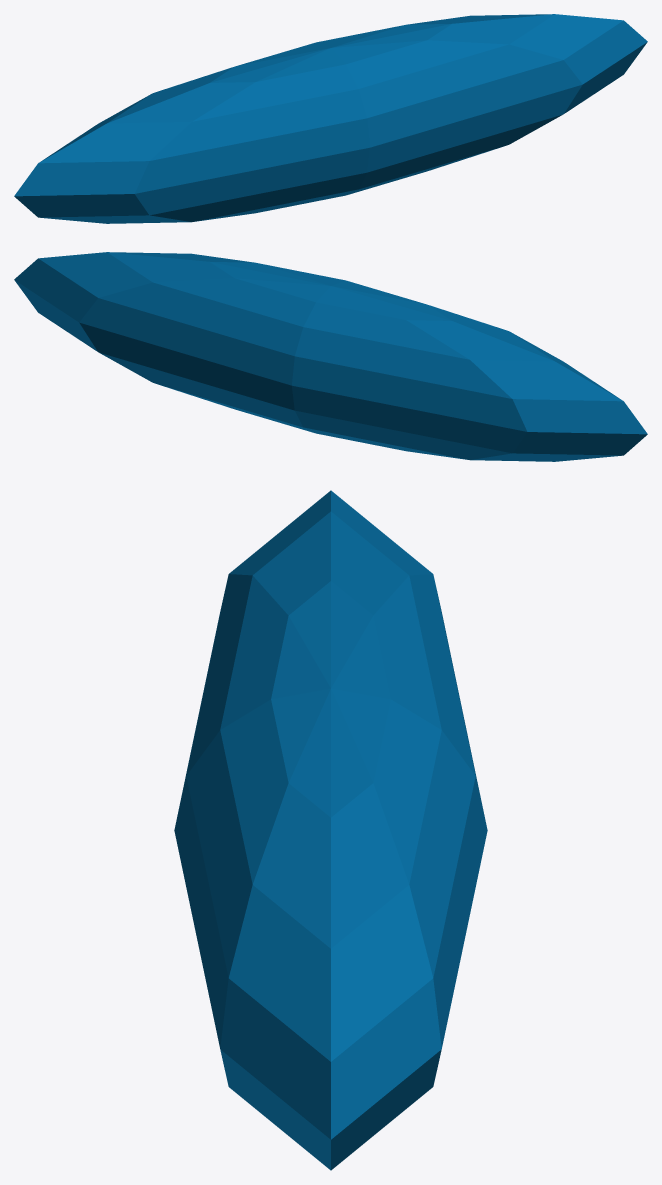
File: tir.obj
3 renders of one model, top to bottom at view 1: azimuth 30°, elevation 25°; view 2: azimuth 150°, elevation 25°; view 3: azimuth 270°, elevation 25°, orthographic. The views are drawn at different scales.
Visible parts, largest first — view 1: Sphere; view 2: Sphere; view 3: Sphere.
Part boxes in pixels (x1,y1,x2,y2): Sphere: [14, 14, 647, 223]; Sphere: [14, 252, 647, 461]; Sphere: [174, 490, 487, 1170].
Bounding box in the file's own units: 9.35 × 2 × 2.
